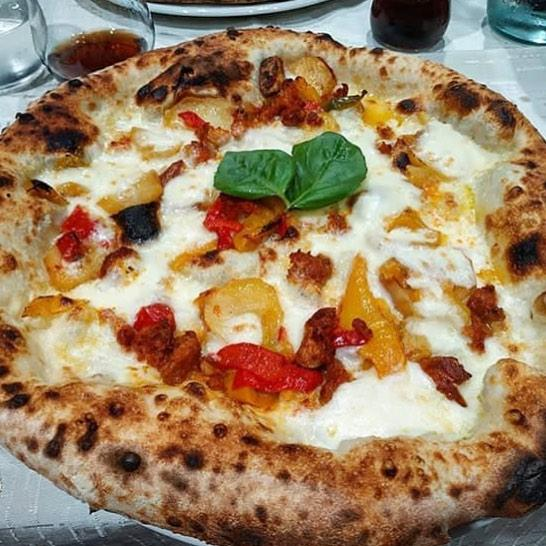Basil: (286, 128, 369, 212), (209, 145, 298, 212)
Chicken: (235, 73, 324, 136), (121, 315, 202, 382), (294, 298, 341, 373), (462, 274, 504, 356), (417, 353, 472, 409), (285, 241, 335, 301)
Peppers: (333, 248, 414, 381), (197, 274, 289, 360), (210, 344, 326, 411), (193, 190, 293, 254), (17, 290, 127, 338), (93, 165, 165, 219), (393, 139, 455, 194), (378, 201, 446, 248), (43, 242, 101, 290), (359, 89, 406, 130), (131, 296, 181, 334), (322, 81, 368, 115), (58, 202, 98, 240), (294, 75, 326, 111), (178, 108, 209, 129)
Pizza: (0, 27, 546, 546)
